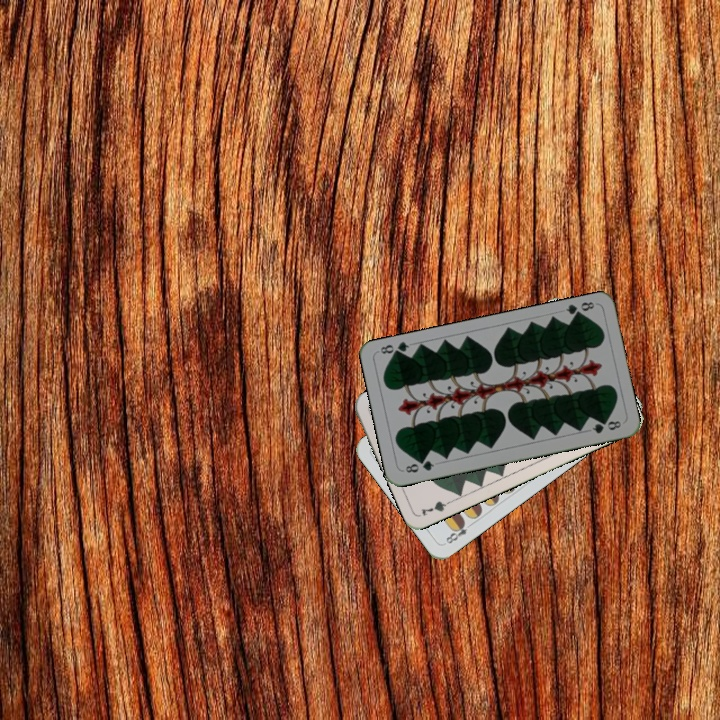E8: (442, 517, 476, 546)
G7: (417, 495, 456, 518)
G8: (562, 297, 597, 321), (401, 456, 437, 475)
